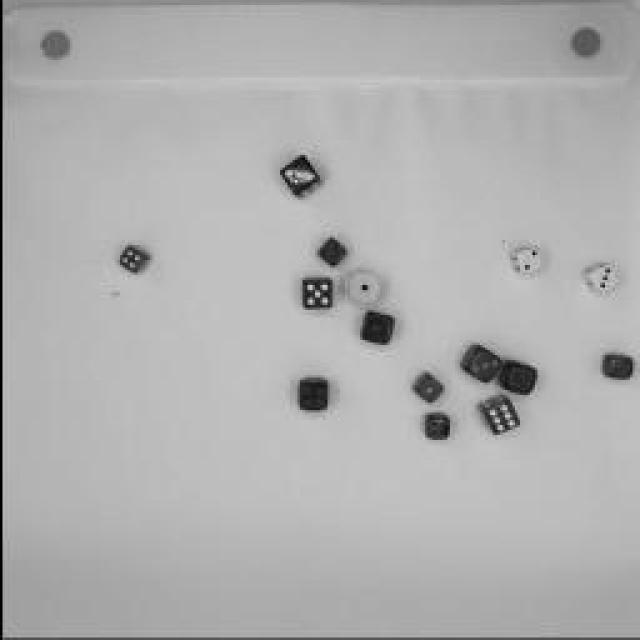dice_1: (356, 311, 396, 349), (342, 270, 382, 305), (408, 369, 442, 406)
dice_2: (598, 348, 632, 382), (510, 244, 540, 276)
dice_3: (272, 152, 322, 198), (456, 348, 496, 382), (579, 264, 616, 296)
dice_4: (496, 361, 539, 394), (292, 376, 328, 412), (420, 414, 450, 444), (115, 248, 150, 272)
dice_5: (312, 236, 348, 269), (300, 278, 332, 310)
dice_6: (480, 399, 512, 439)
